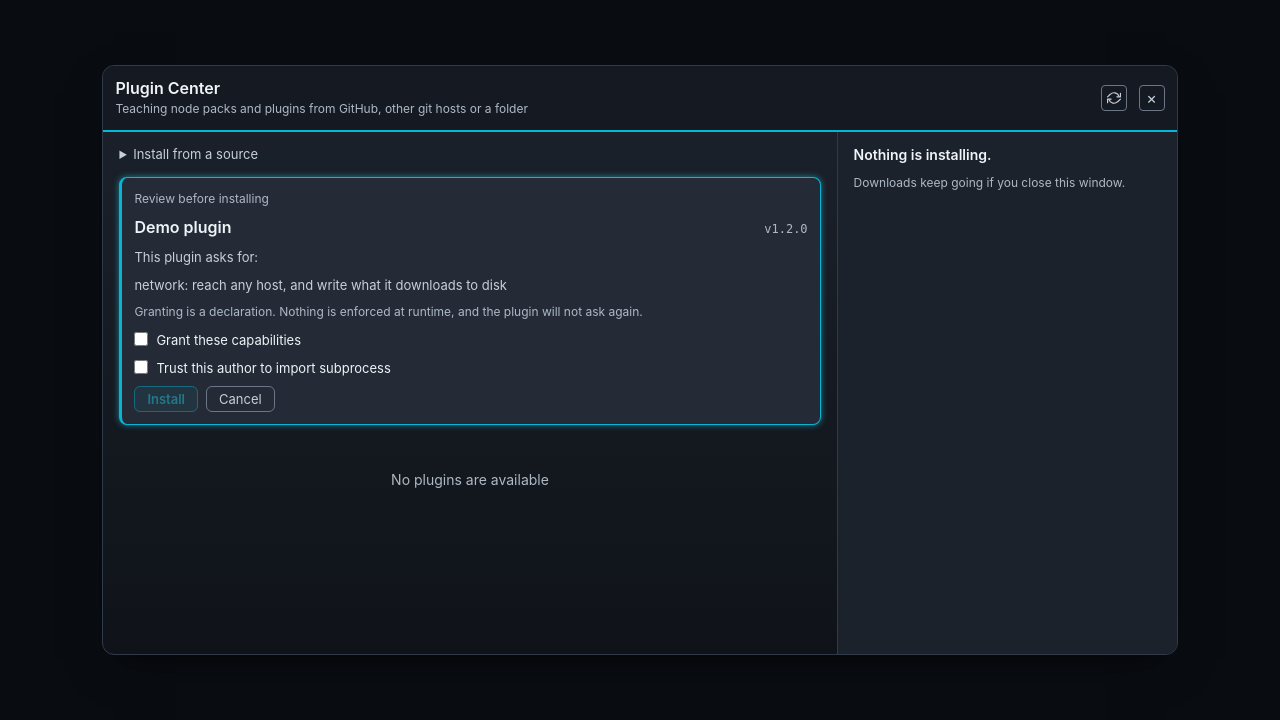
Test: PluginCenterModal — the review › keeps Install dead until every box the manifest asks for is ticked
The width and height of the screenshot is (1280, 720).
Expected: the button "Install" is disabled, [134, 386, 198, 412]
Click the checkbox labelled "Grant these capabilities".
click(141, 339)  # box [134, 332, 148, 346]
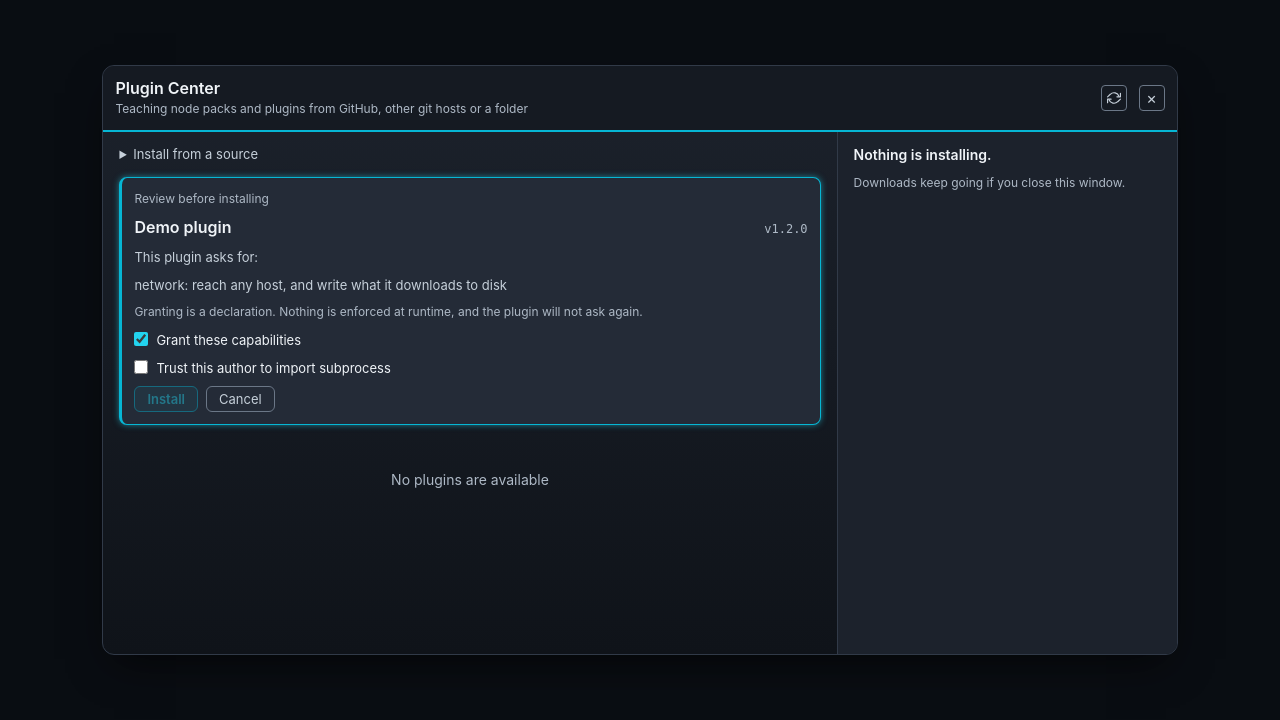
Expected: the button "Install" is disabled, [134, 386, 198, 412]
Click the checkbox labelled "Trust this author to import subprocess".
click(141, 367)  # box [134, 360, 148, 374]
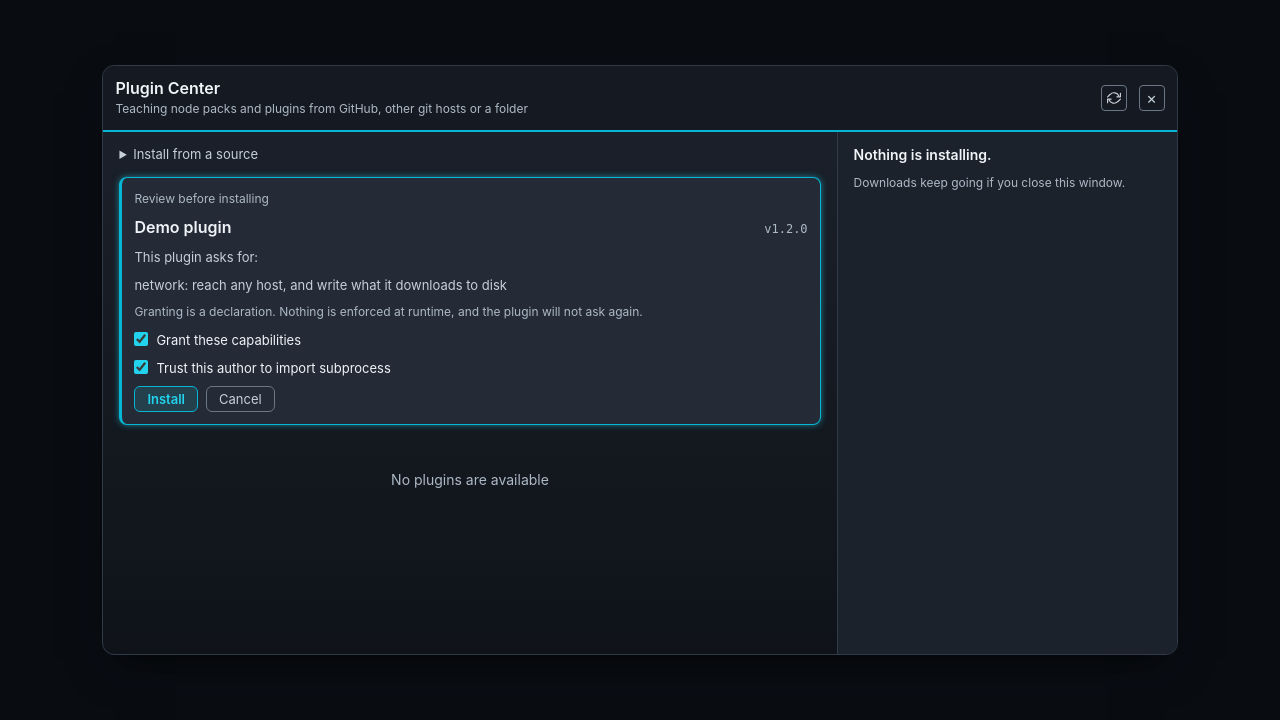
Now the button "Install" is enabled, box [134, 386, 198, 412]
